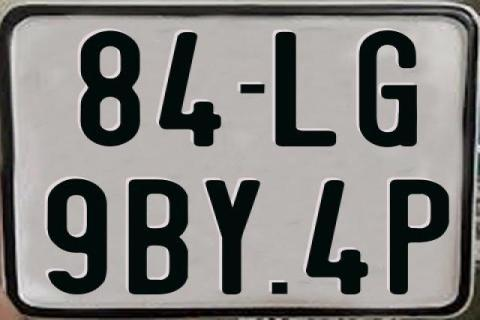0: (159, 30, 227, 146), (80, 29, 144, 145), (306, 178, 369, 294), (46, 177, 108, 293)
B: (128, 177, 189, 293)
G: (359, 29, 421, 149)
L: (272, 30, 334, 144)
P: (387, 178, 449, 296)
Y: (203, 178, 262, 294)
